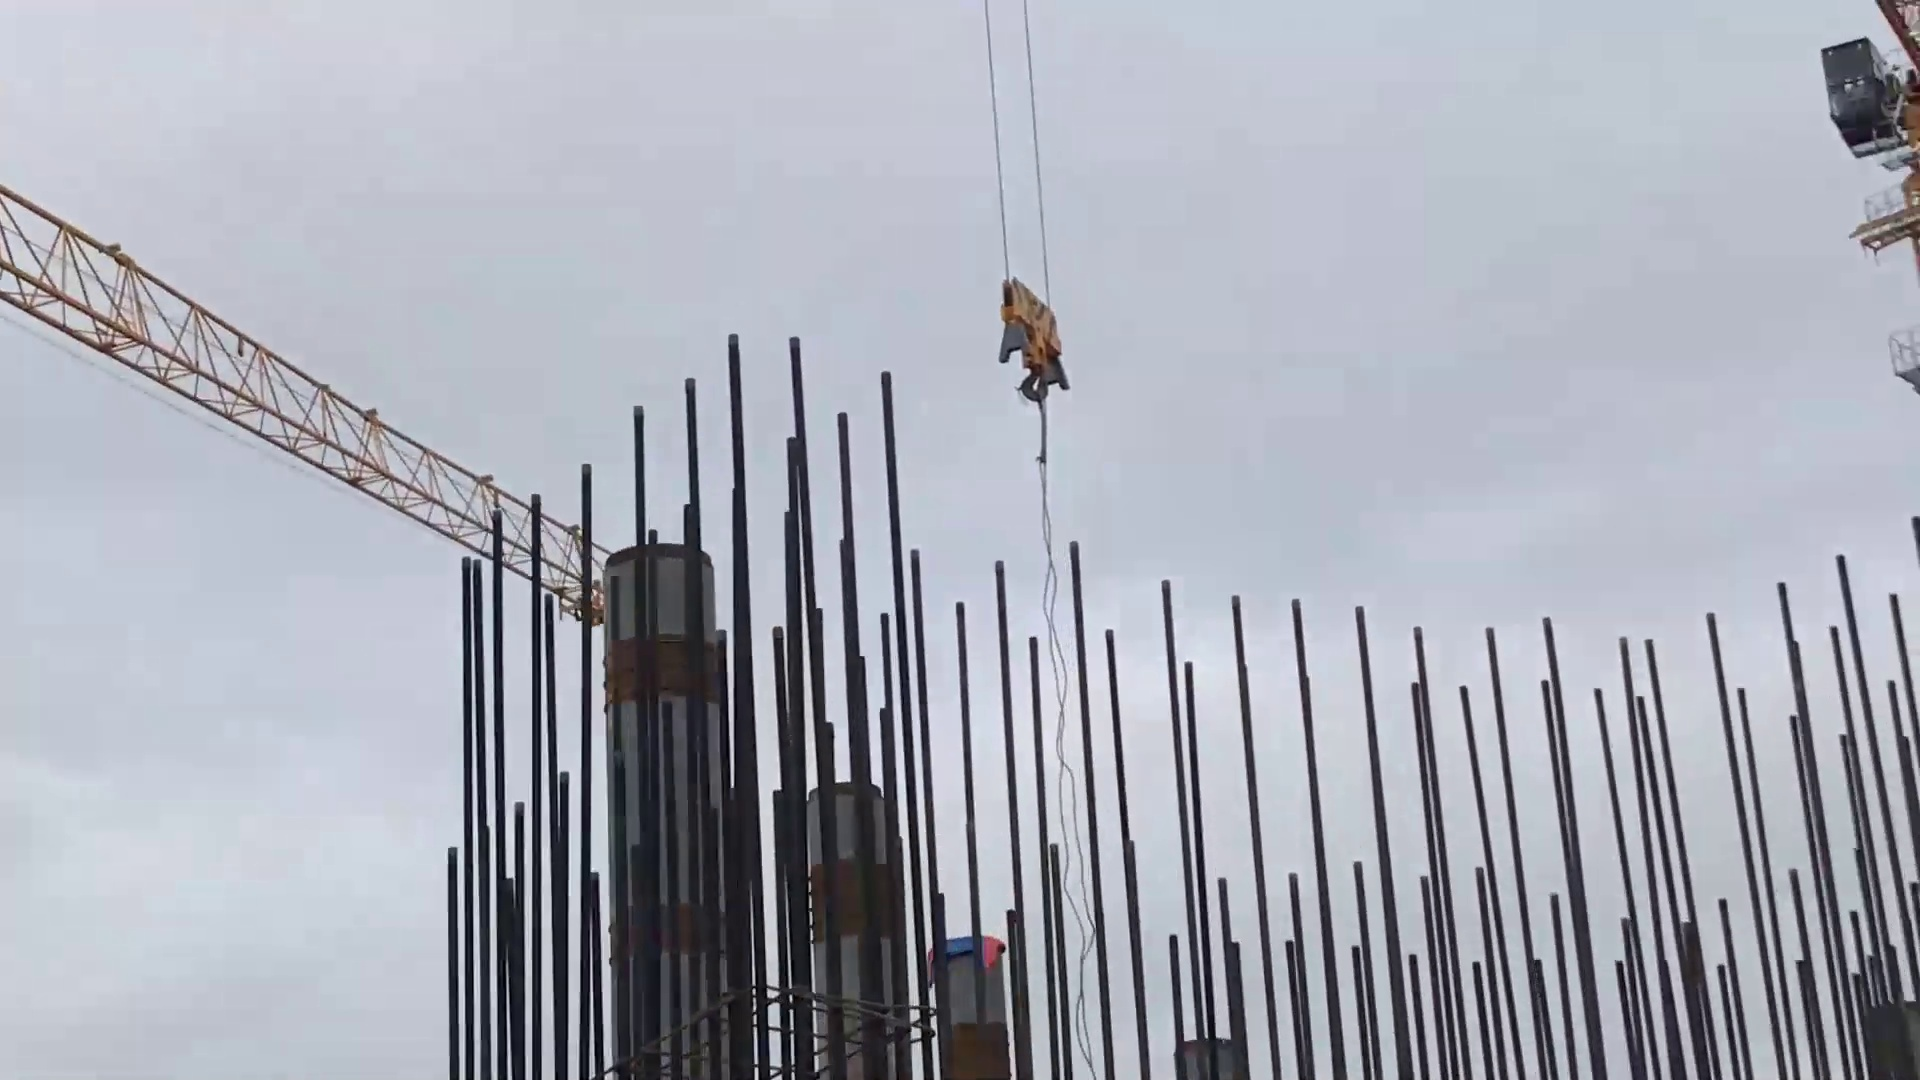hook: (981, 261, 1100, 439)
